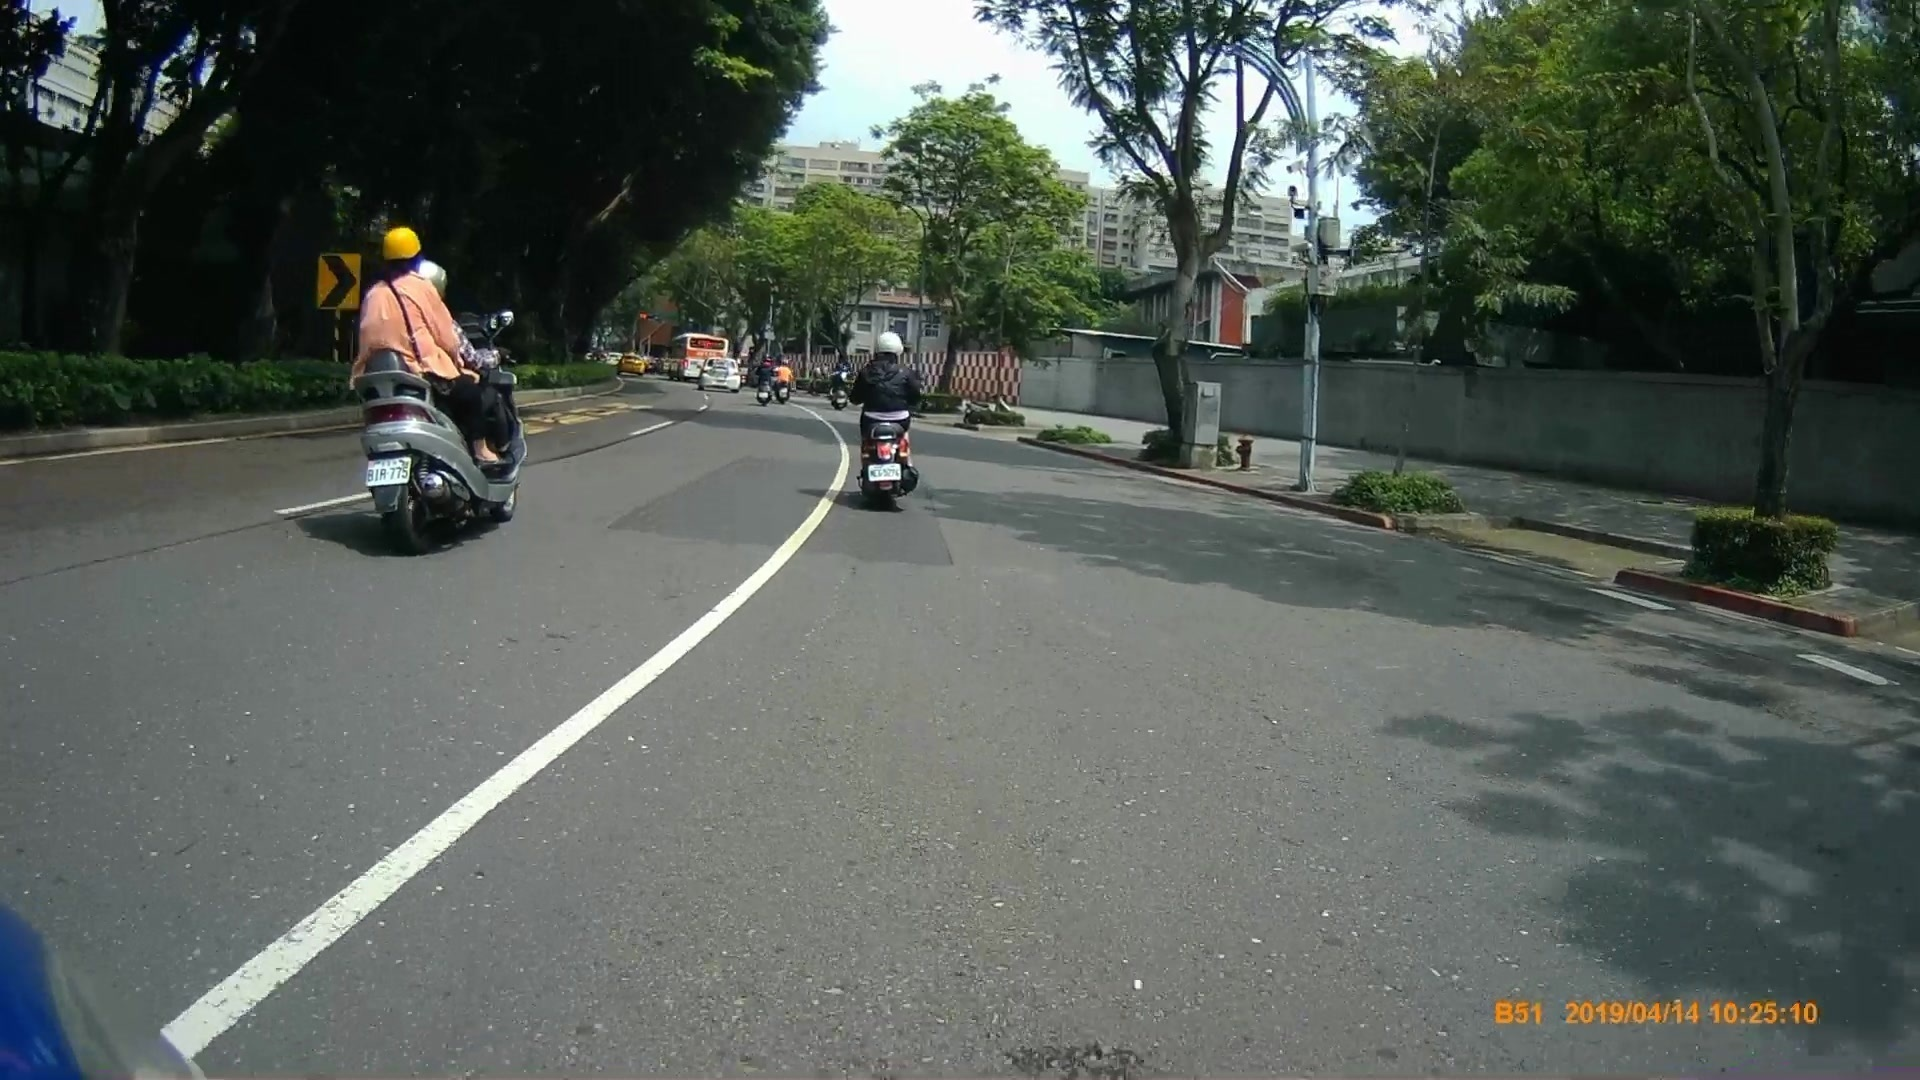License_plate: (364, 456, 413, 489), (870, 460, 903, 482)
